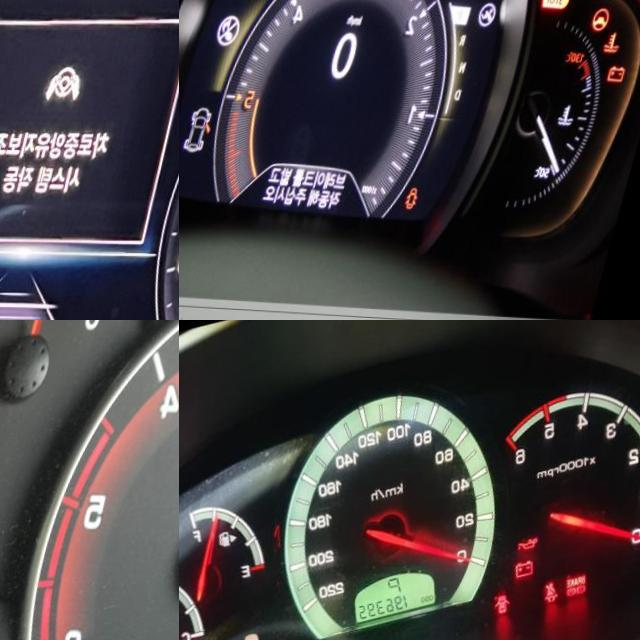Doors: (508, 590, 531, 613), (424, 185, 441, 209)
Engine cooling system: (615, 29, 637, 52)
